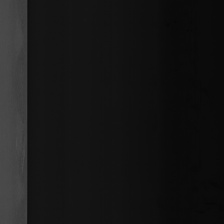silk_spot: (10, 36, 26, 201)
